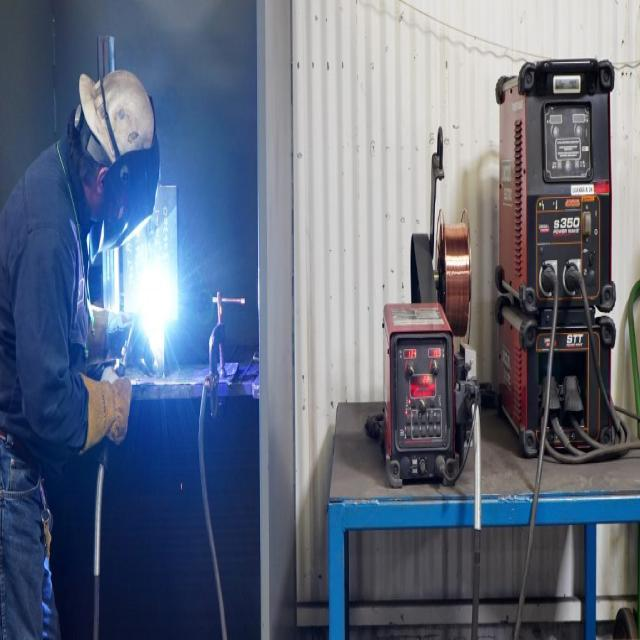with_helmet: (66, 69, 159, 243)
